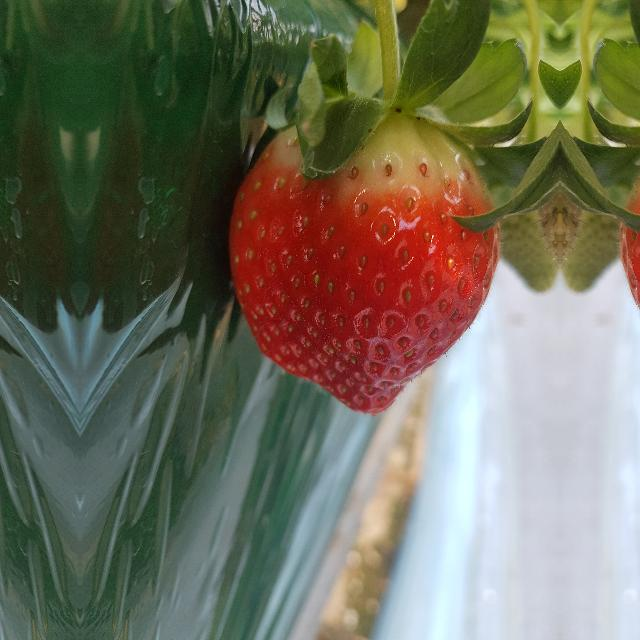Health_75: (228, 107, 502, 417)
